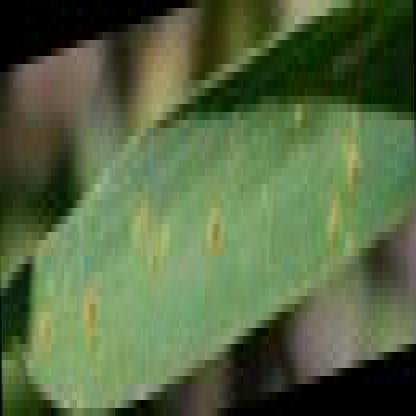Wheat Brown-rust: (131, 206, 167, 292), (205, 195, 230, 288), (31, 300, 60, 370), (346, 125, 365, 210), (82, 281, 103, 351), (326, 183, 343, 262)
